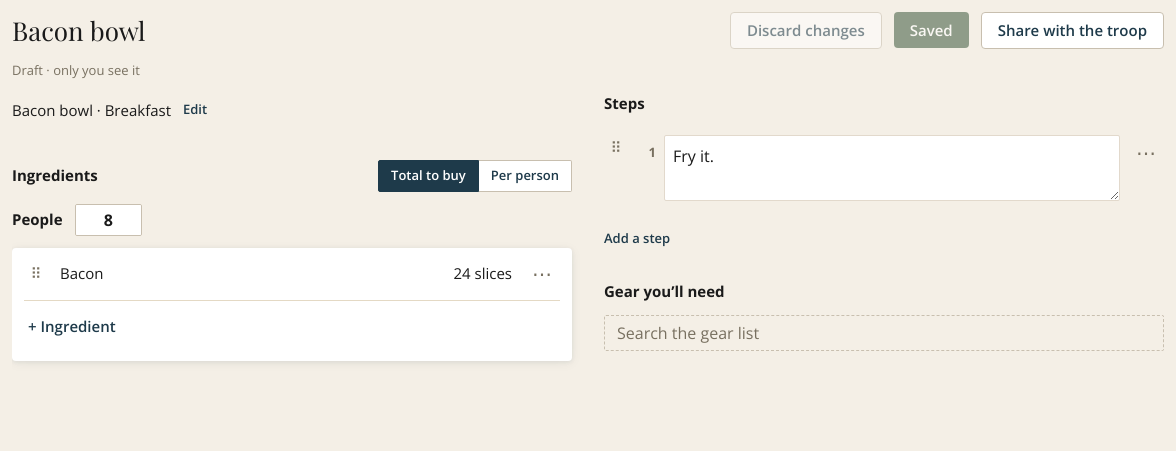
RecipeEditor steps and ingredients › AddAStep_AddsAnEmptyStep
What coordinates should you click on to do the following:
click the button "Add a step"
I would click on:
 (637, 238)
Its box is [604,220,670,256].
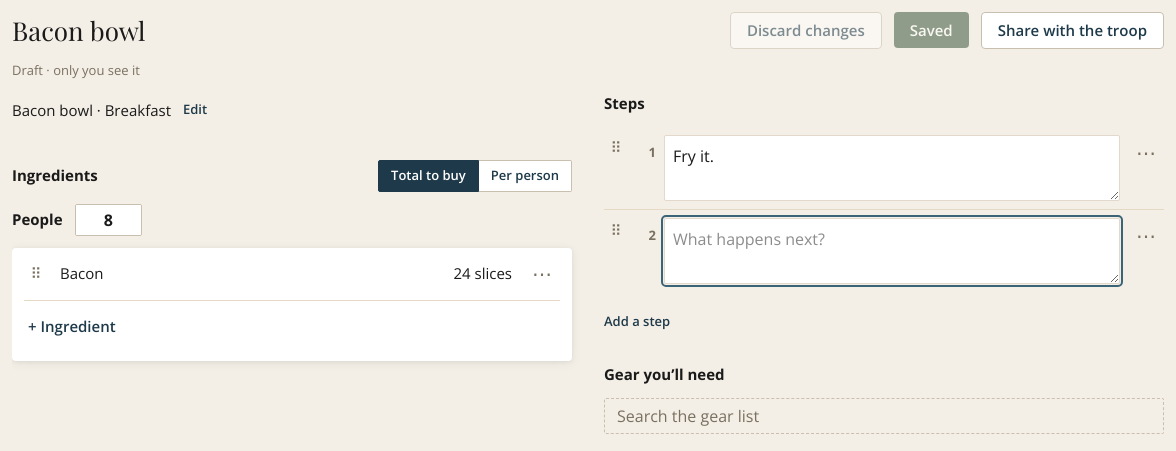
Expected: the text box named "Step 2" is shown, [664,218,1120,284]
